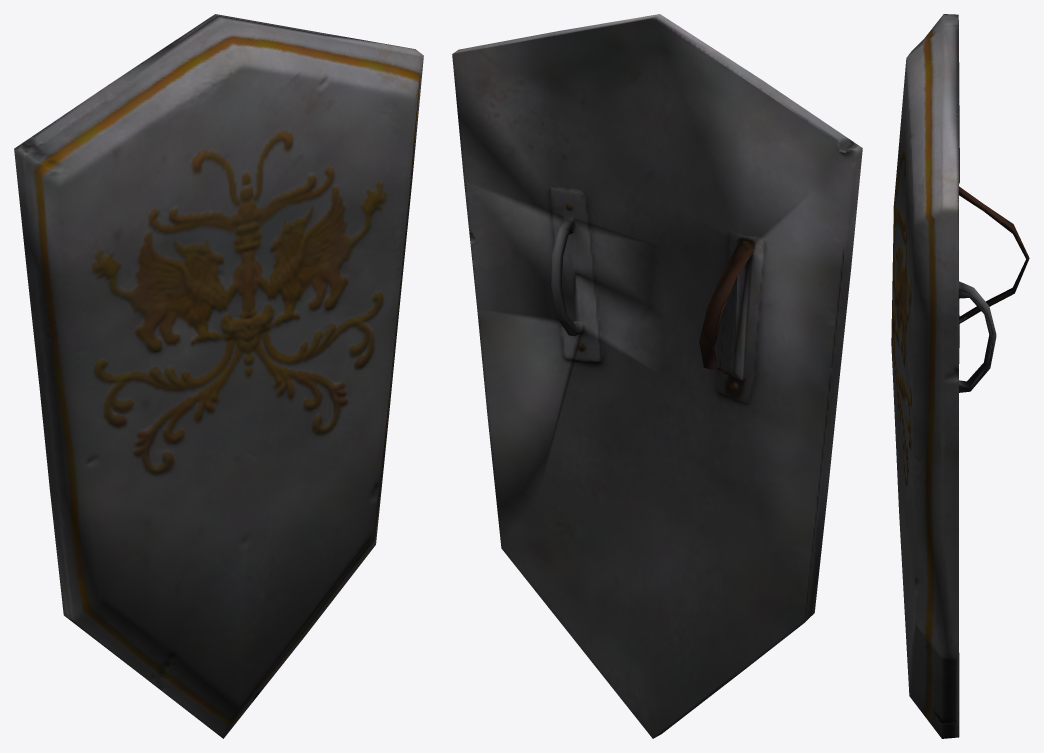
Rendered from Prop_SM_Shield.fbx.
The picture shows the model from 3 angles, left to right: view 1: azimuth 30°, elevation 25°; view 2: azimuth 150°, elevation 25°; view 3: azimuth 270°, elevation 25°; orthographic projection.
Parts seen in each view (by area): view 1: shield1; view 2: shield1; view 3: shield1.
Boxes of the visible parts, <box> form: shield1: <box>14,14,423,738</box>; shield1: <box>452,14,862,738</box>; shield1: <box>891,14,1029,738</box>.
Bounding box in the file's own units: 3.2 × 5.46 × 0.9595.
Materials: 1 (1 with a texture image).
